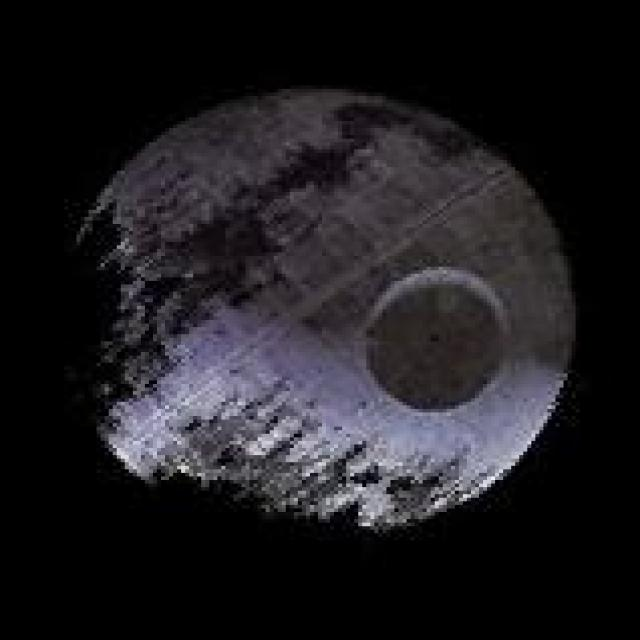Death Star: (64, 78, 584, 537)
